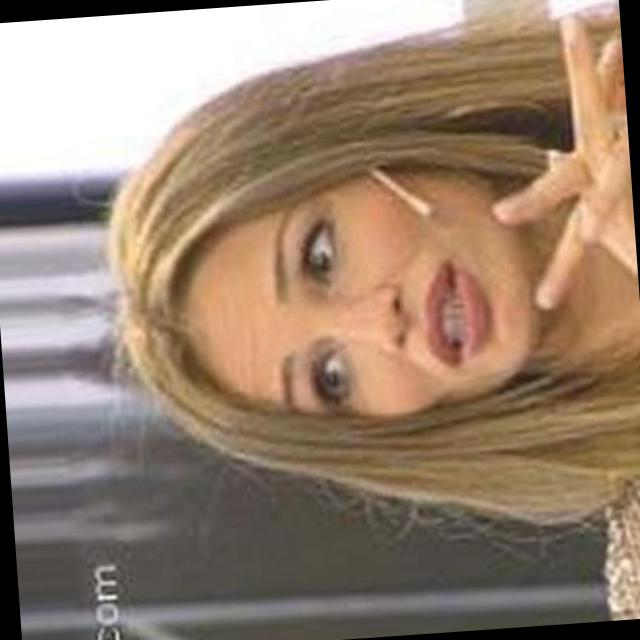bareface: (149, 134, 552, 480)
